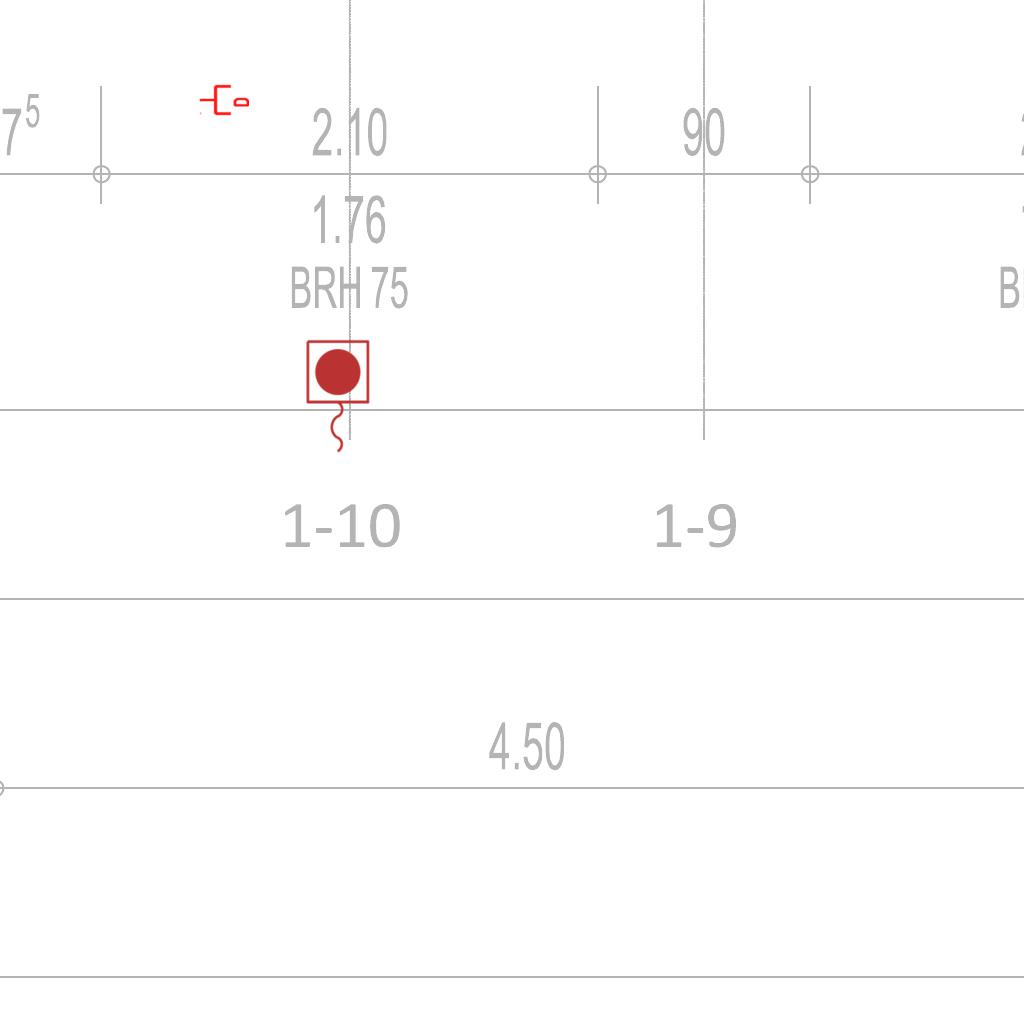Datenanschluss_einfach: (199, 83, 249, 117)
Zugtaster: (301, 336, 373, 458)
